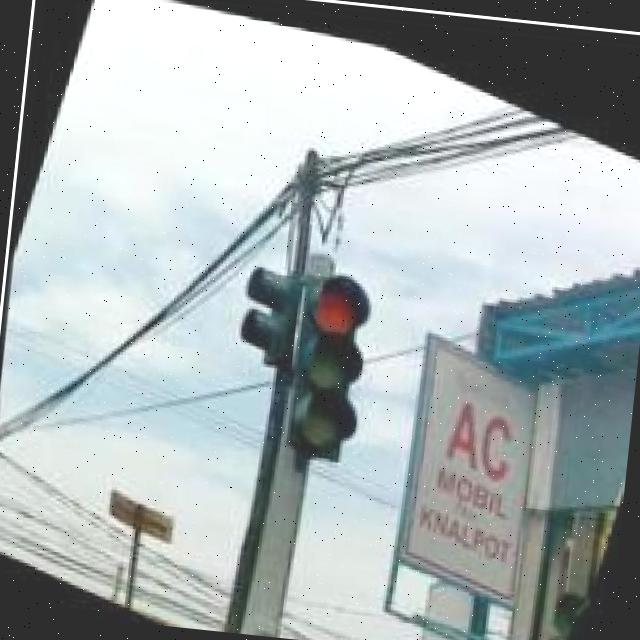red_light: (247, 241, 406, 477)
